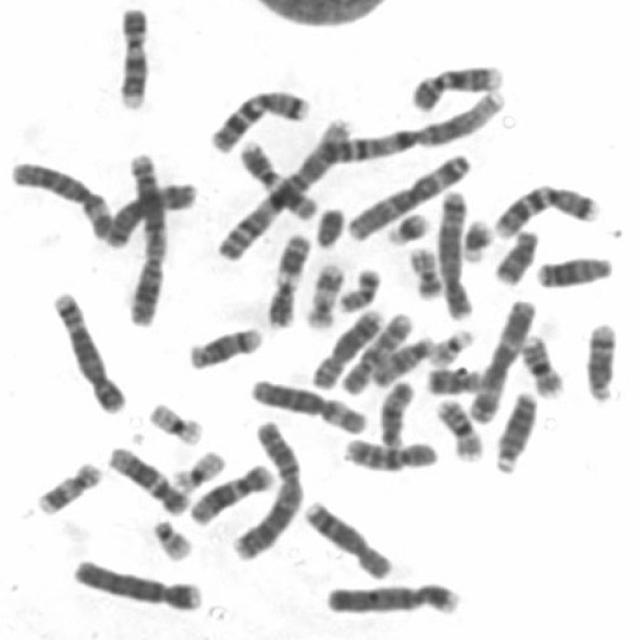A1: (212, 113, 356, 262), (310, 86, 509, 169)
A2: (225, 415, 308, 562), (117, 144, 174, 328)
A3: (341, 148, 473, 243), (463, 293, 538, 425)
B4: (69, 552, 205, 612), (320, 578, 464, 619)
B5: (44, 285, 128, 415), (432, 186, 476, 320)
C10: (336, 307, 415, 395), (337, 434, 439, 474)
C11: (236, 138, 320, 224), (262, 228, 314, 330)
C12: (103, 440, 191, 516), (184, 457, 275, 526)
C6: (5, 153, 118, 245), (244, 372, 370, 436)
C7: (205, 83, 313, 154), (488, 178, 602, 240)
C8: (300, 496, 394, 580), (306, 304, 386, 392)
C9: (406, 57, 505, 114), (112, 0, 151, 113)
D13: (490, 386, 539, 476), (532, 247, 614, 291)
D14: (184, 322, 264, 371), (580, 315, 621, 405)
D15: (368, 333, 435, 388), (375, 377, 416, 452)
E16: (432, 394, 488, 462), (515, 329, 565, 399)
E17: (30, 456, 104, 518), (303, 257, 346, 332)
E18: (486, 224, 541, 286), (422, 363, 486, 396)
F19: (143, 397, 206, 446), (166, 445, 228, 494)
F20: (334, 262, 382, 313), (406, 242, 444, 301)
G21: (383, 205, 433, 246), (456, 213, 494, 264)
G22: (425, 323, 476, 369), (148, 514, 195, 563)
X: (99, 176, 201, 250)
Y: (309, 201, 346, 250)
